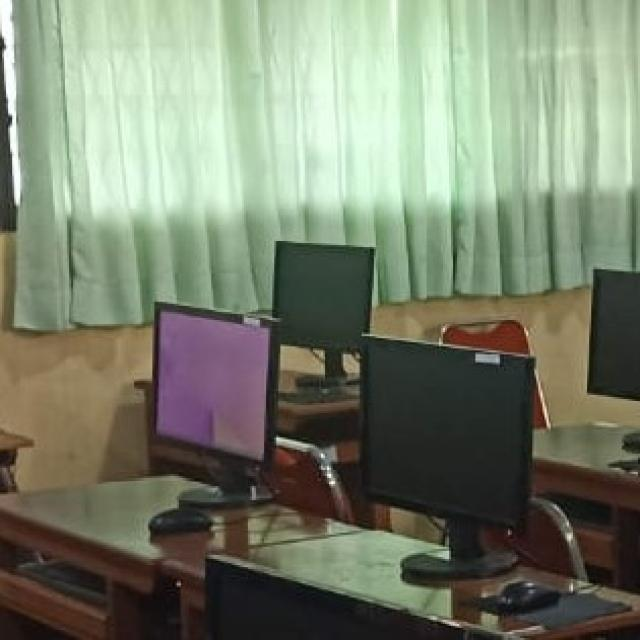offscreen: (365, 336, 534, 524), (273, 241, 374, 343), (588, 269, 640, 398)
onscreen: (150, 302, 278, 484)
